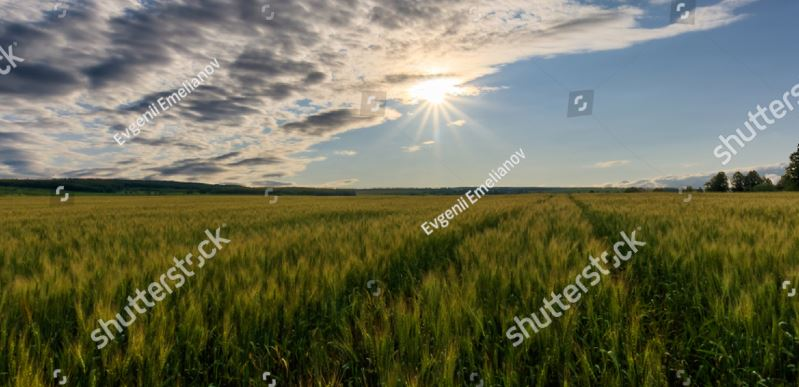Wheat: (22, 215, 264, 335)
